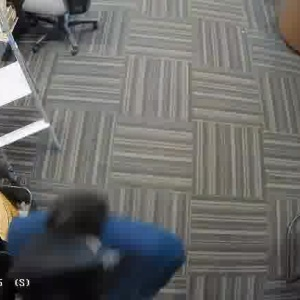person: (22, 204, 147, 288)
